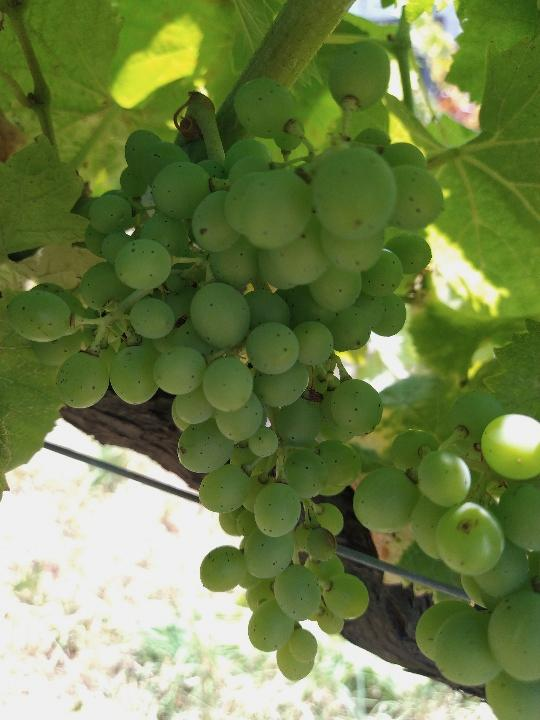grape: (6, 41, 445, 685)
